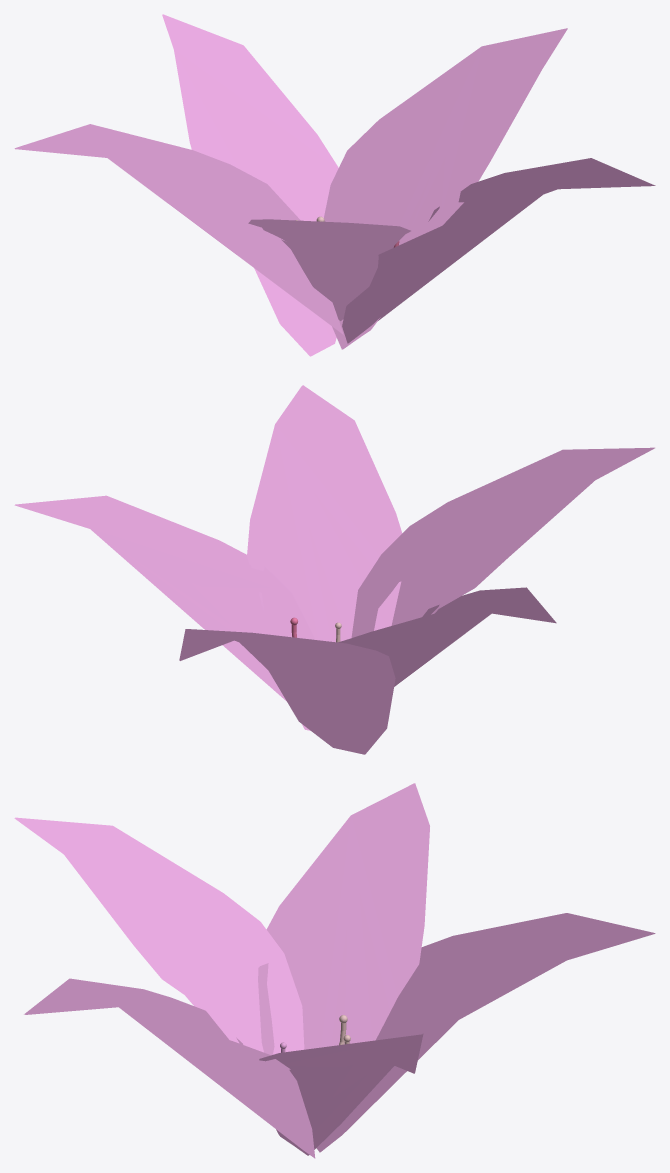
File: flower.fbx
3 views of the same model, one above another, from view 1: azimuth 30°, elevation 25°; view 2: azimuth 150°, elevation 25°; view 3: azimuth 270°, elevation 25° (orthographic). The views are drawn at different scales.
Parts seen in each view (by area): view 1: Circle.002, Circle.001, Circle, Circle.003, Circle.004; view 2: Circle.003, Circle.004, Circle.002, Circle.001, Circle; view 3: Circle, Circle.004, Circle.001, Circle.003, Circle.002.
Part boxes in pixels (left/top/right/bottom): Circle.002: left=324, top=28, right=567, bottom=349; Circle.001: left=162, top=14, right=338, bottom=356; Circle: left=14, top=124, right=343, bottom=334; Circle.003: left=342, top=158, right=655, bottom=343; Circle.004: left=248, top=219, right=410, bottom=320; Circle.003: left=247, top=385, right=402, bottom=730; Circle.004: left=351, top=447, right=654, bottom=637; Circle.002: left=14, top=495, right=315, bottom=701; Circle.001: left=179, top=629, right=395, bottom=754; Circle: left=338, top=587, right=556, bottom=686; Circle: left=258, top=783, right=429, bottom=1055; Circle.004: left=14, top=817, right=304, bottom=1054; Circle.001: left=316, top=913, right=655, bottom=1152; Circle.003: left=24, top=978, right=315, bottom=1158; Circle.002: left=259, top=1033, right=423, bottom=1155.
Size of the model in its own units: 687 by 289 by 675.
